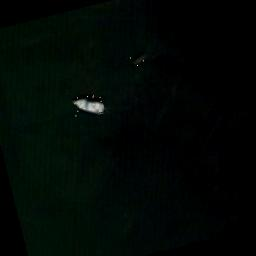boat: (70, 92, 106, 120), (128, 52, 150, 70)
